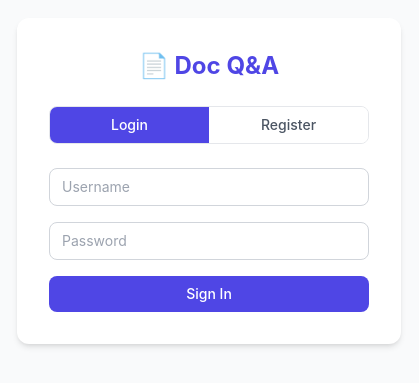
it: AuthPage › shows generic error when no detail
The image size is (419, 383).
Type "u" into the field with placeholder "Username".
click(209, 187); type("u")  # box [49,168,369,206]
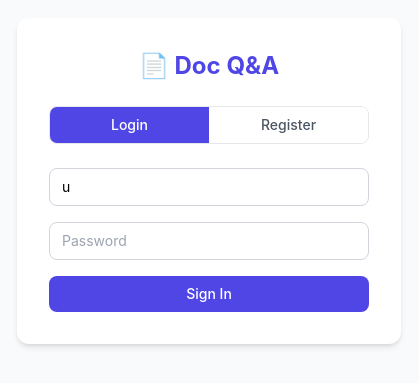
Type "p" into the password field with placeholder "Password".
click(209, 241); type("p")  # box [49,222,369,260]
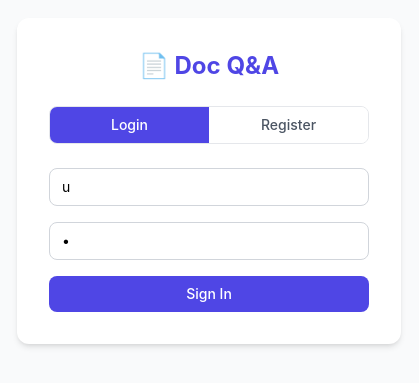
Click the button "Sign In".
click(209, 294)  # box [49,276,369,312]
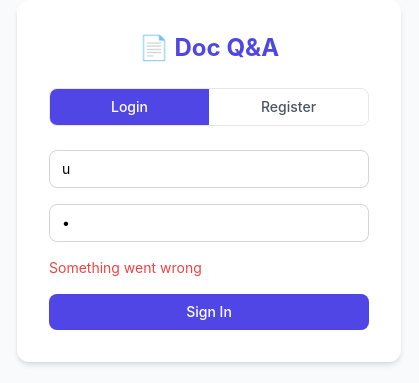
Expected: the text "Something went wrong" is shown, [49,259,202,276]
